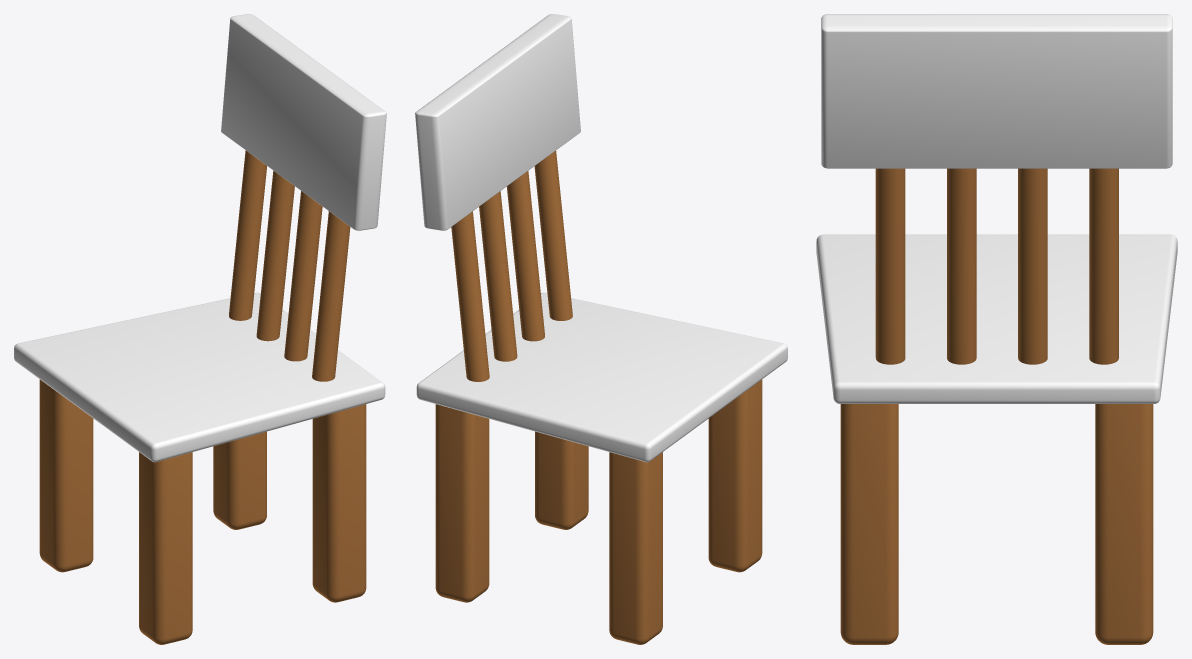
File: simple_chair.obj
3 renders of one model, left to right at view 1: azimuth 30°, elevation 25°; view 2: azimuth 150°, elevation 25°; view 3: azimuth 270°, elevation 25°, orthographic. The views are drawn at different scales.
Visible parts, largest first — view 1: simple_chair; view 2: simple_chair; view 3: simple_chair.
Boxes of the visible parts, left/top/right/bottom form: simple_chair: left=14, top=14, right=386, bottom=644; simple_chair: left=415, top=14, right=787, bottom=644; simple_chair: left=816, top=14, right=1177, bottom=644.
Size of the model in its own units: 0.5535 by 1.08 by 0.5604.
